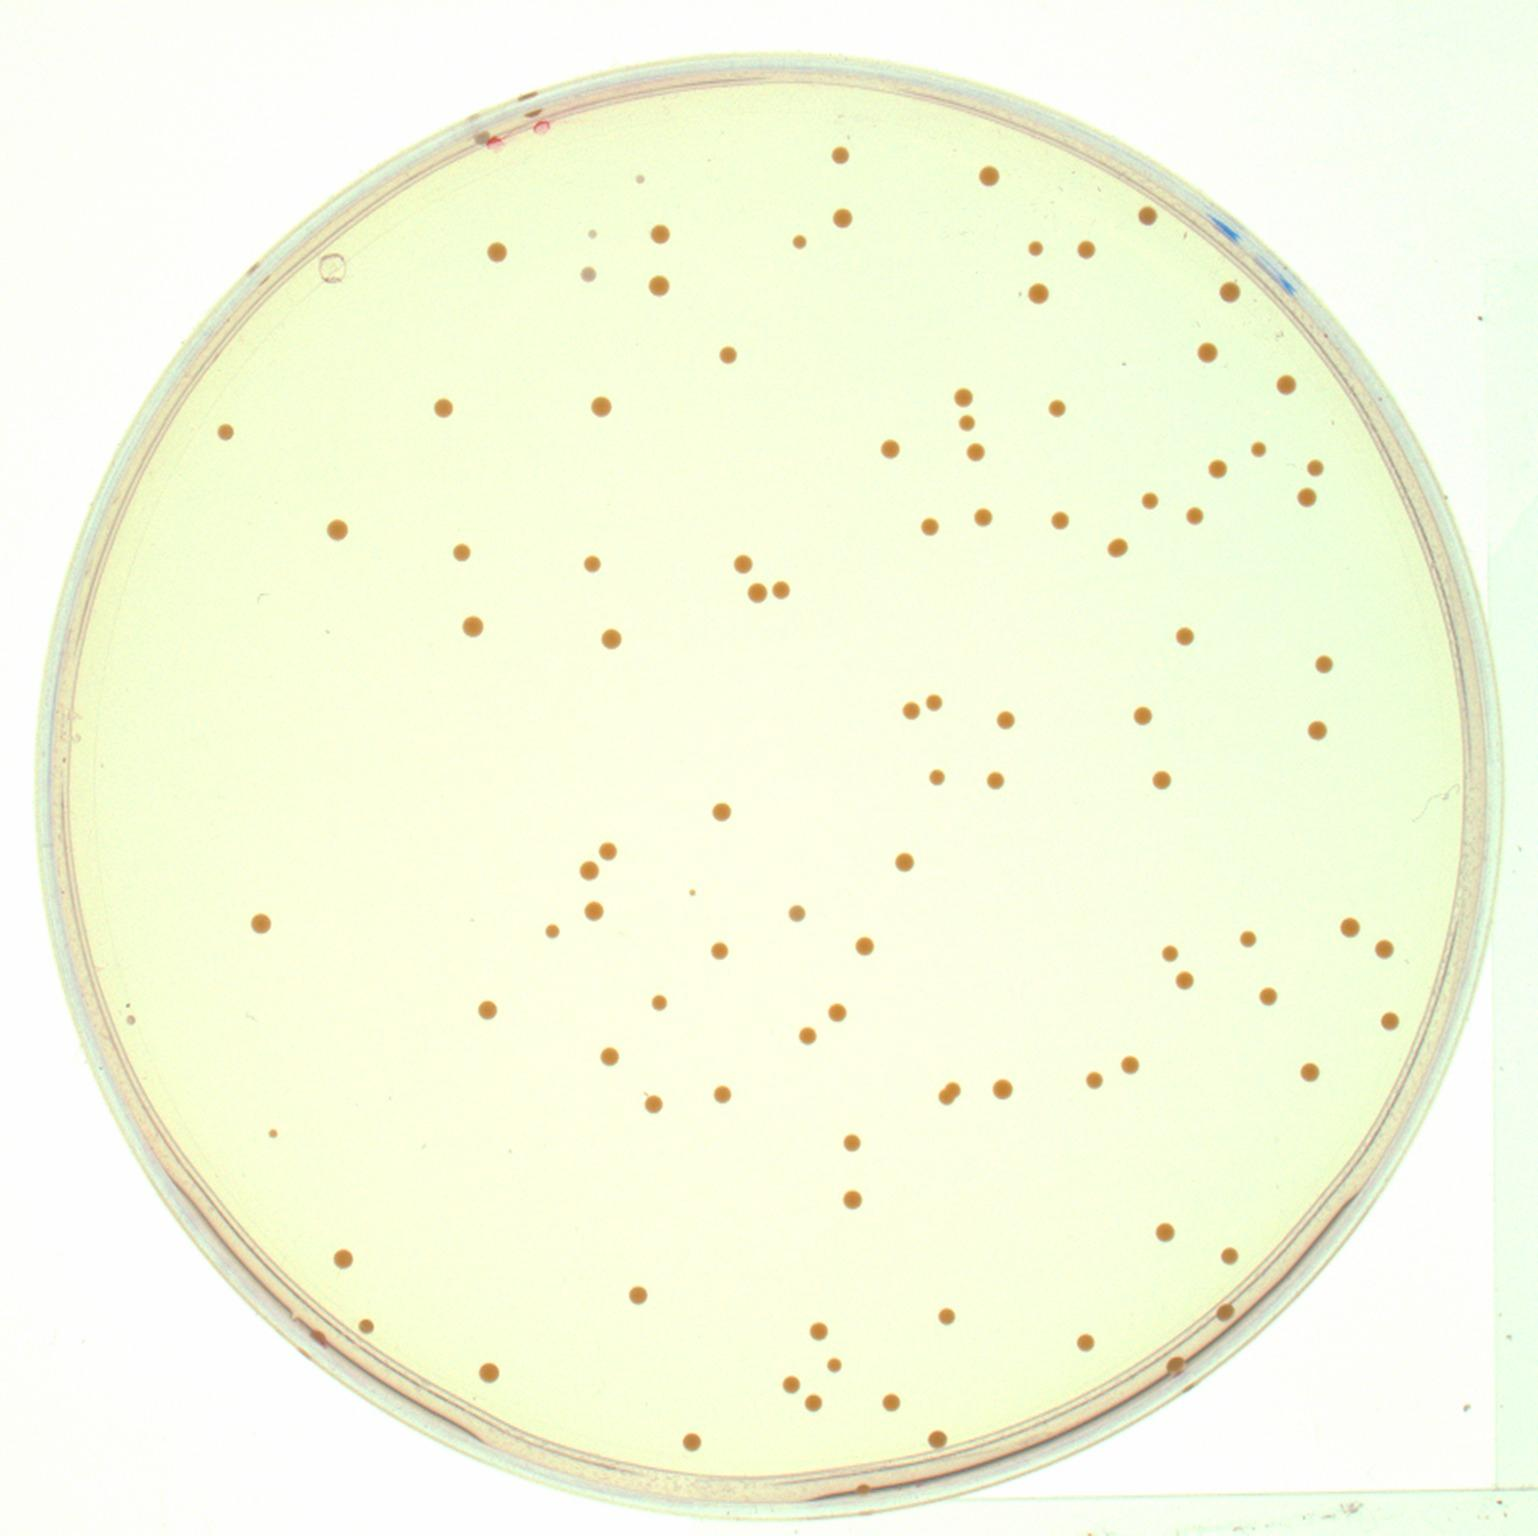colony: (1271, 370, 1302, 402), (473, 995, 502, 1027), (975, 161, 1005, 191), (1193, 339, 1221, 368), (587, 393, 615, 421), (1169, 624, 1198, 651), (475, 1358, 502, 1387), (325, 516, 350, 547), (1213, 278, 1242, 304), (1025, 278, 1049, 309), (460, 614, 487, 640), (891, 848, 917, 875), (962, 440, 989, 466), (246, 909, 273, 935), (1216, 1242, 1241, 1270), (1304, 716, 1328, 745), (1293, 485, 1319, 511), (599, 626, 624, 653), (1303, 455, 1328, 482), (1134, 200, 1158, 228), (331, 1245, 355, 1273), (934, 1302, 959, 1328), (840, 1186, 865, 1212), (990, 1076, 1015, 1102), (1297, 1060, 1322, 1086), (1337, 915, 1362, 941), (852, 933, 877, 959), (1148, 769, 1174, 794), (1205, 456, 1231, 481), (1046, 395, 1070, 422), (832, 205, 855, 233), (484, 239, 508, 265), (627, 1284, 651, 1310), (1128, 703, 1151, 730), (1311, 650, 1334, 677), (1049, 507, 1072, 534), (1213, 1301, 1237, 1326), (1105, 535, 1130, 559), (917, 513, 941, 538), (877, 436, 902, 460), (1072, 236, 1097, 260), (305, 1324, 330, 1348), (581, 900, 607, 923), (1153, 1220, 1176, 1246), (1377, 1010, 1400, 1036), (1136, 489, 1162, 512), (646, 274, 670, 298), (746, 580, 768, 606), (598, 1044, 620, 1070), (680, 1428, 702, 1454), (1257, 984, 1279, 1010), (711, 1083, 734, 1107), (779, 1373, 803, 1396), (880, 1391, 903, 1415), (1117, 1054, 1141, 1077), (954, 411, 977, 435), (951, 386, 974, 410), (1024, 237, 1048, 260), (649, 222, 671, 247), (707, 939, 732, 961), (807, 1319, 829, 1344), (1173, 625, 1195, 650), (923, 692, 946, 715), (1184, 503, 1207, 526), (926, 1428, 948, 1452), (1374, 938, 1396, 962), (1173, 968, 1195, 992), (972, 504, 994, 528), (431, 397, 454, 419), (786, 902, 808, 925), (797, 1023, 819, 1046), (1084, 1070, 1107, 1092), (1164, 1354, 1187, 1376), (899, 700, 922, 722), (717, 344, 738, 368), (643, 1093, 664, 1117), (995, 707, 1016, 731), (732, 553, 754, 575), (597, 840, 619, 862), (802, 1393, 824, 1415), (711, 800, 732, 823), (542, 919, 563, 942), (1237, 928, 1258, 951), (355, 1317, 376, 1340), (451, 541, 473, 562), (826, 1001, 848, 1022), (578, 859, 599, 881), (1074, 1331, 1095, 1353), (983, 769, 1005, 790), (842, 1131, 862, 1153), (215, 422, 237, 442), (1159, 942, 1179, 963), (926, 766, 946, 787), (1247, 439, 1268, 459), (582, 552, 601, 574), (769, 579, 789, 599), (790, 232, 809, 252), (649, 993, 669, 1012), (578, 265, 599, 283), (936, 1088, 955, 1107), (831, 144, 849, 164), (945, 1078, 963, 1097), (825, 1356, 843, 1374), (853, 1480, 870, 1496), (585, 228, 600, 242), (265, 1126, 279, 1139), (634, 173, 646, 186), (688, 887, 696, 897)
